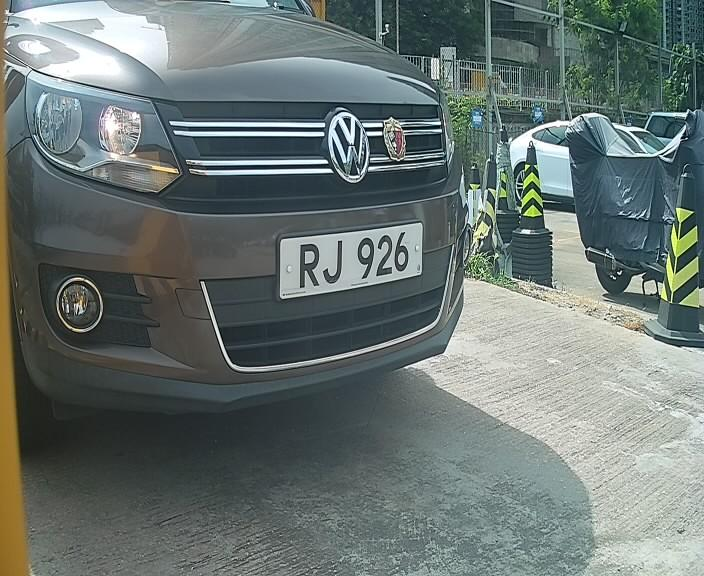License Plate: (268, 217, 422, 309)
